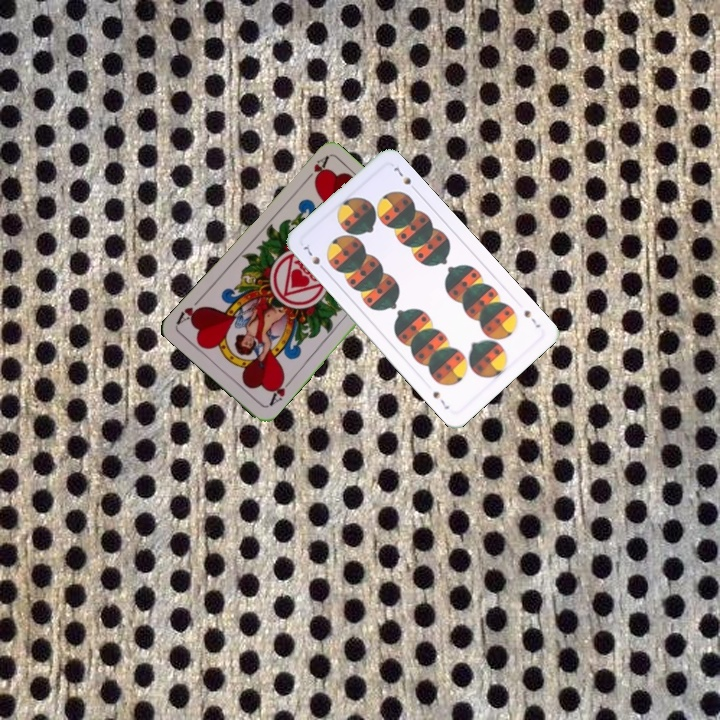HA: (265, 372, 295, 409), (299, 153, 331, 187)
S7: (299, 242, 329, 274), (520, 306, 543, 331)
